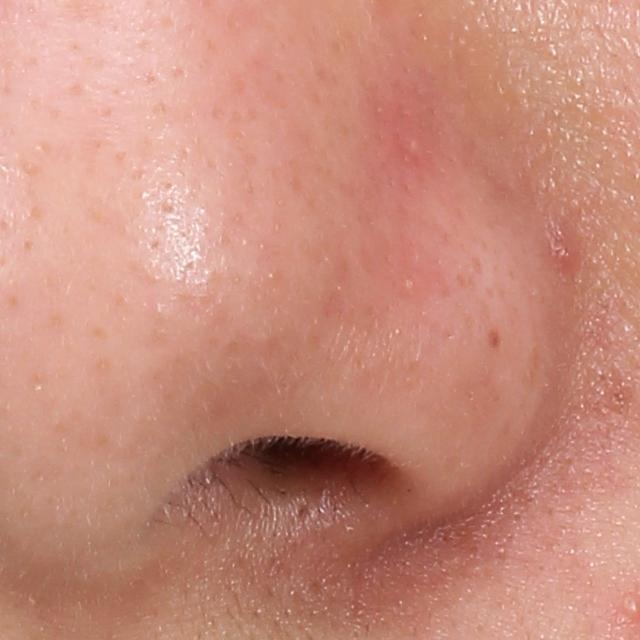nevus: (486, 332, 504, 351)
